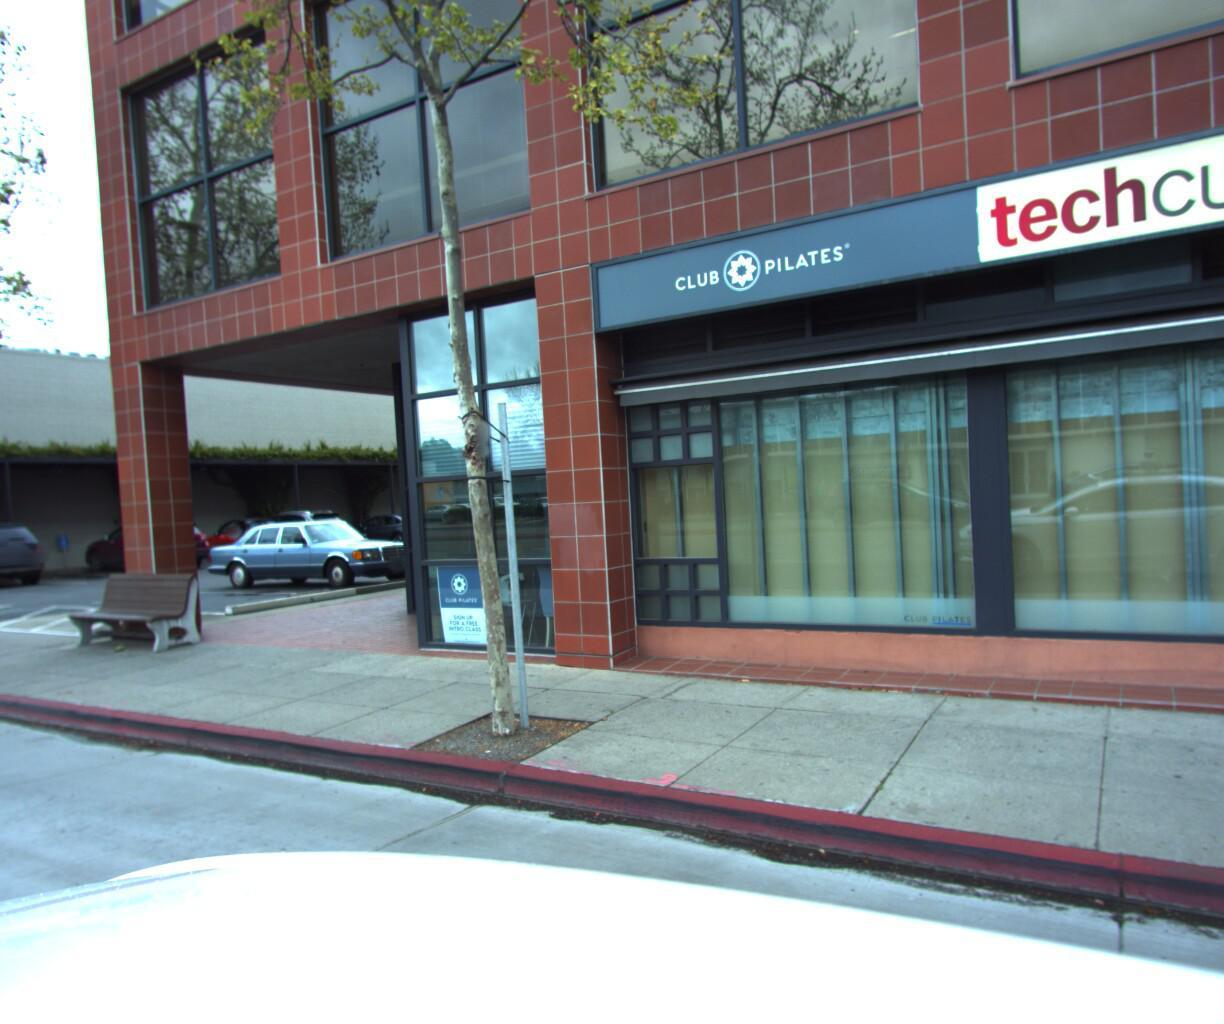car: (191, 517, 436, 607), (0, 524, 56, 594)
